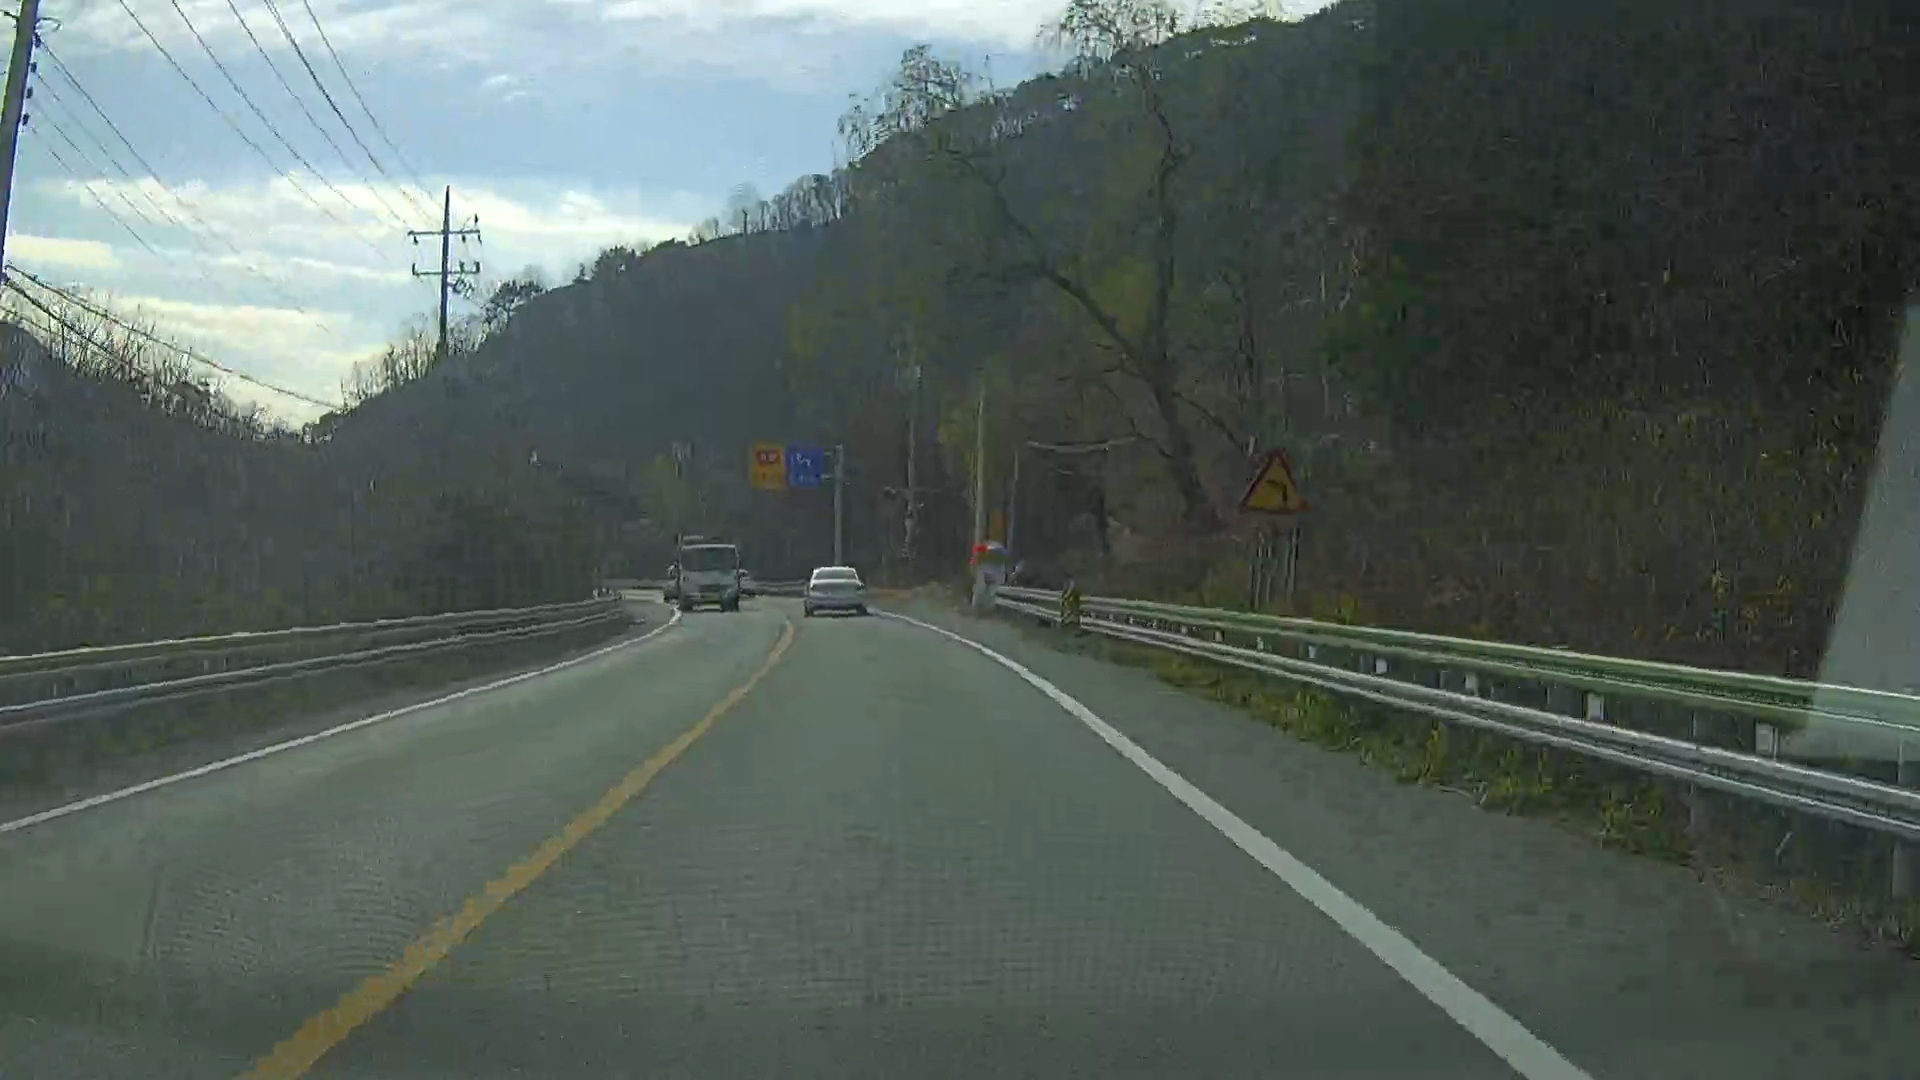trafficSignRTG: (745, 442, 827, 498)
trafficSignTri: (1238, 444, 1313, 516)
